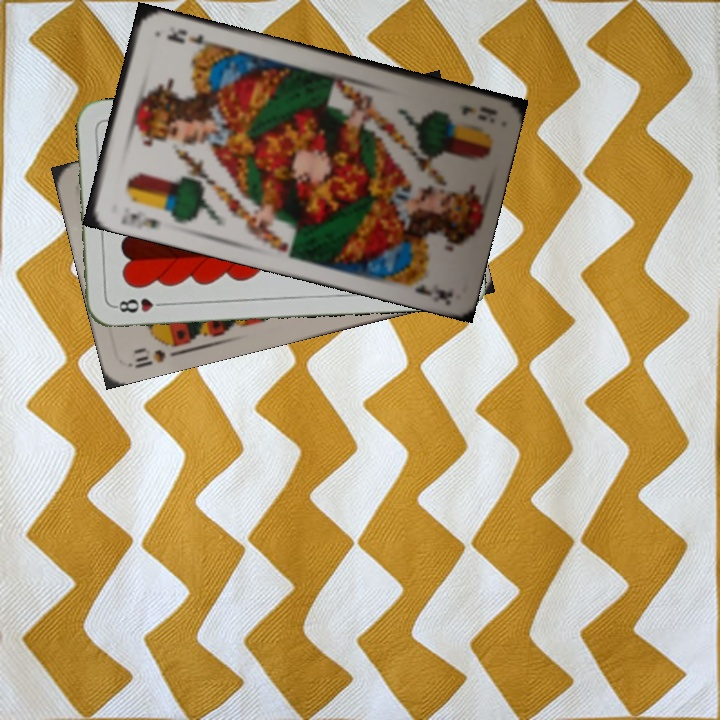EK: (116, 209, 164, 231), (457, 102, 498, 119)
H8: (110, 294, 169, 316)
S10: (125, 336, 184, 371)
